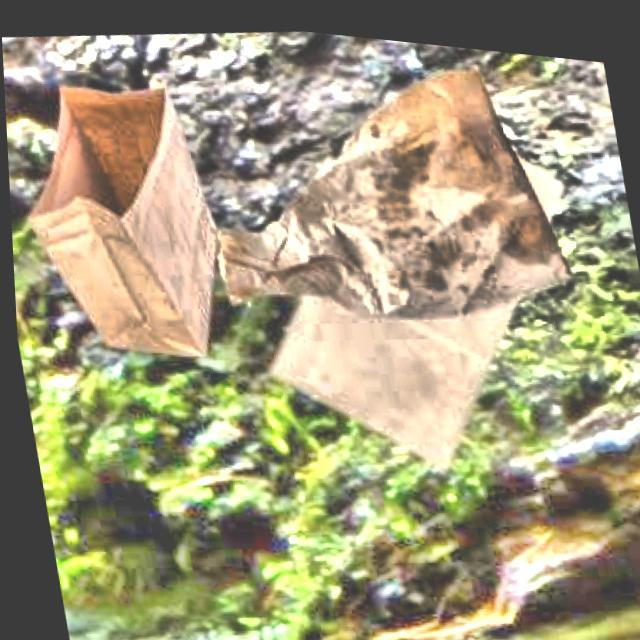Paper-bag: (227, 56, 616, 519), (163, 15, 580, 339), (2, 52, 245, 393)
